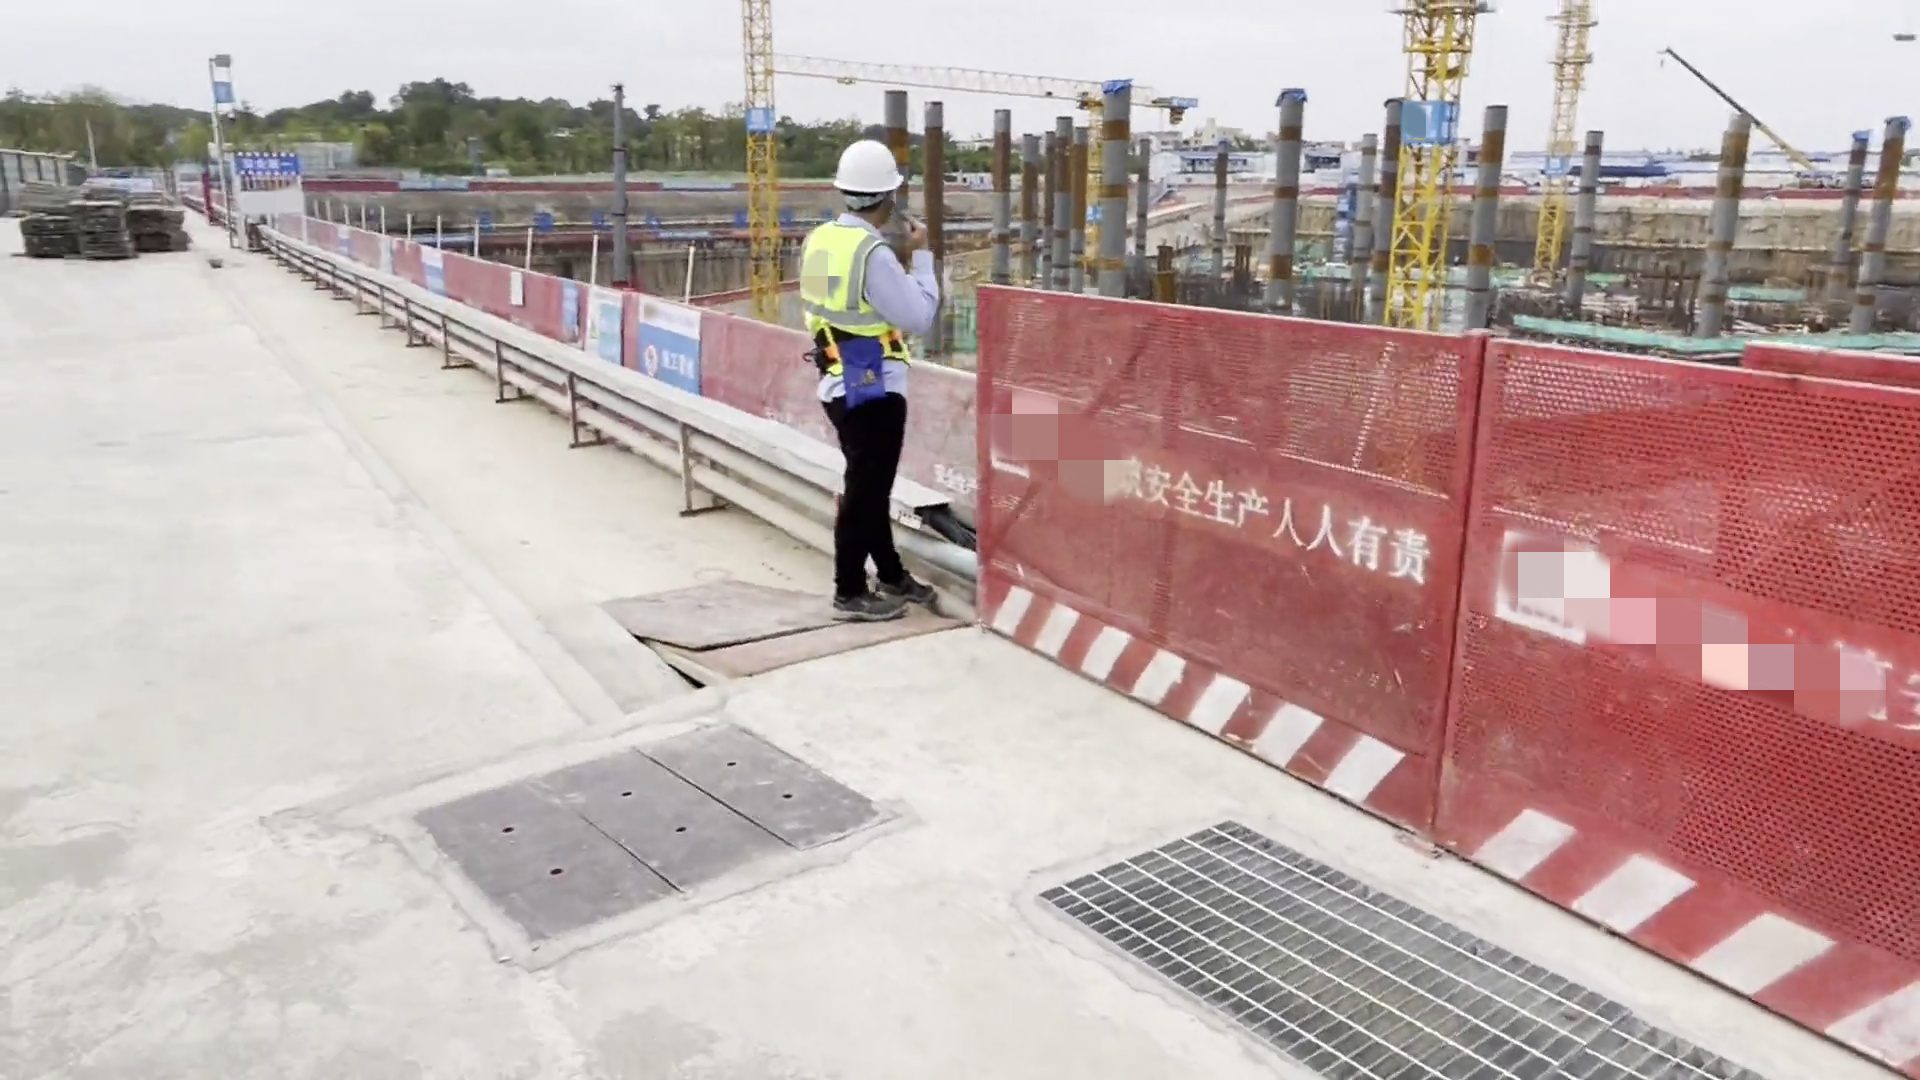fence: (1475, 322, 1919, 1080), (967, 283, 1461, 850), (291, 207, 781, 408)
helmet: (832, 136, 914, 196)
person: (796, 138, 930, 624)
slogan: (636, 295, 703, 390), (577, 289, 623, 363), (417, 248, 441, 290), (239, 157, 297, 173), (397, 181, 468, 190), (1441, 103, 1457, 138), (333, 220, 354, 248), (656, 230, 715, 239), (747, 110, 767, 132), (1546, 156, 1567, 175)
vest: (805, 224, 913, 365)
